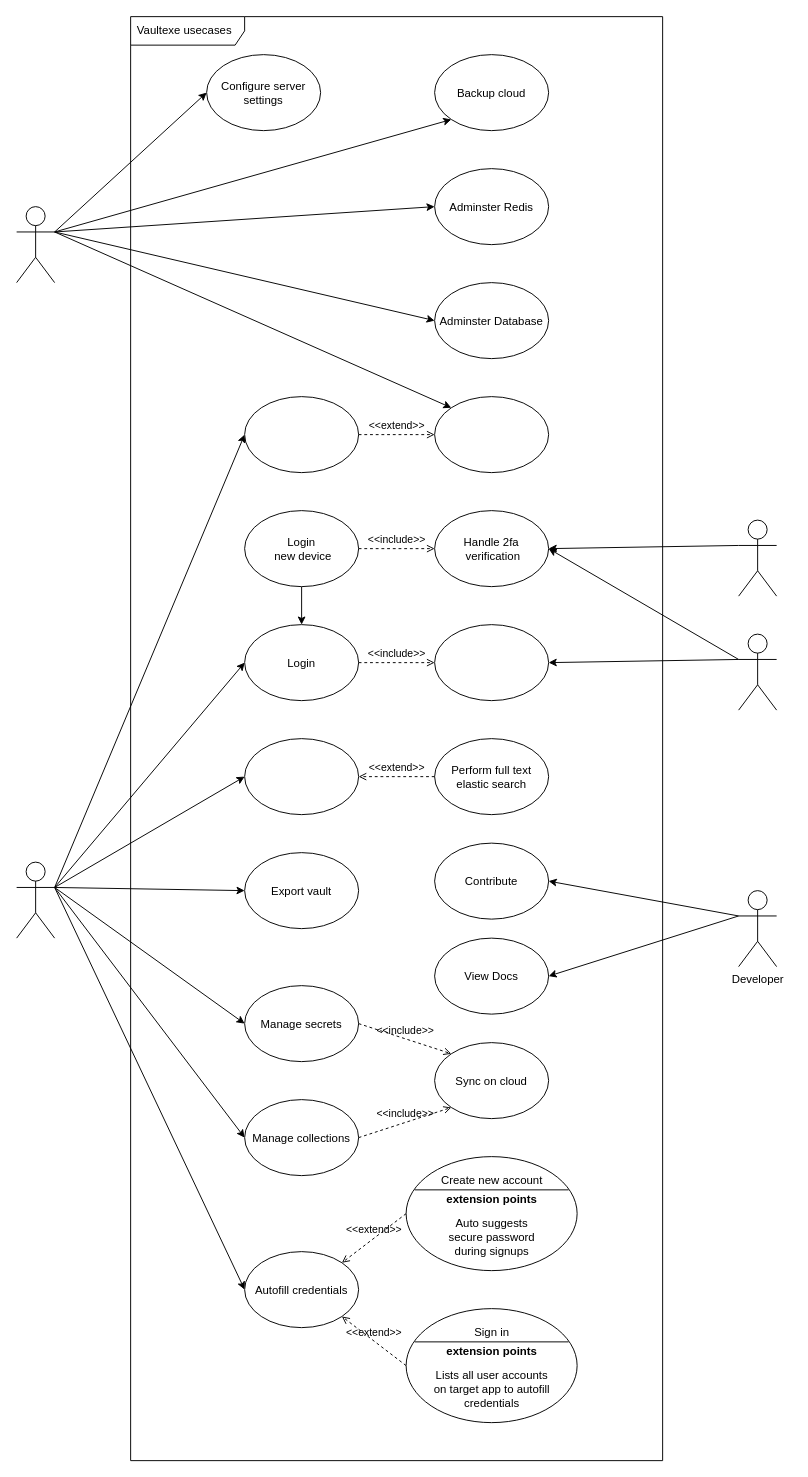
The diagram is 808 pixels wide and 1477 high, and some of its shapes have lost their labels. The shapes that lost their labels are listed below. From the top down, each one's centre as x and y in pixels, then its label:
point 35,244: Admin
point 301,434: Register
point 491,434: Invite user
point 757,557: SMTP Server
point 491,662: Authenticate & Authorize
point 757,671: Auth Server
point 301,776: View vault
point 35,899: User
